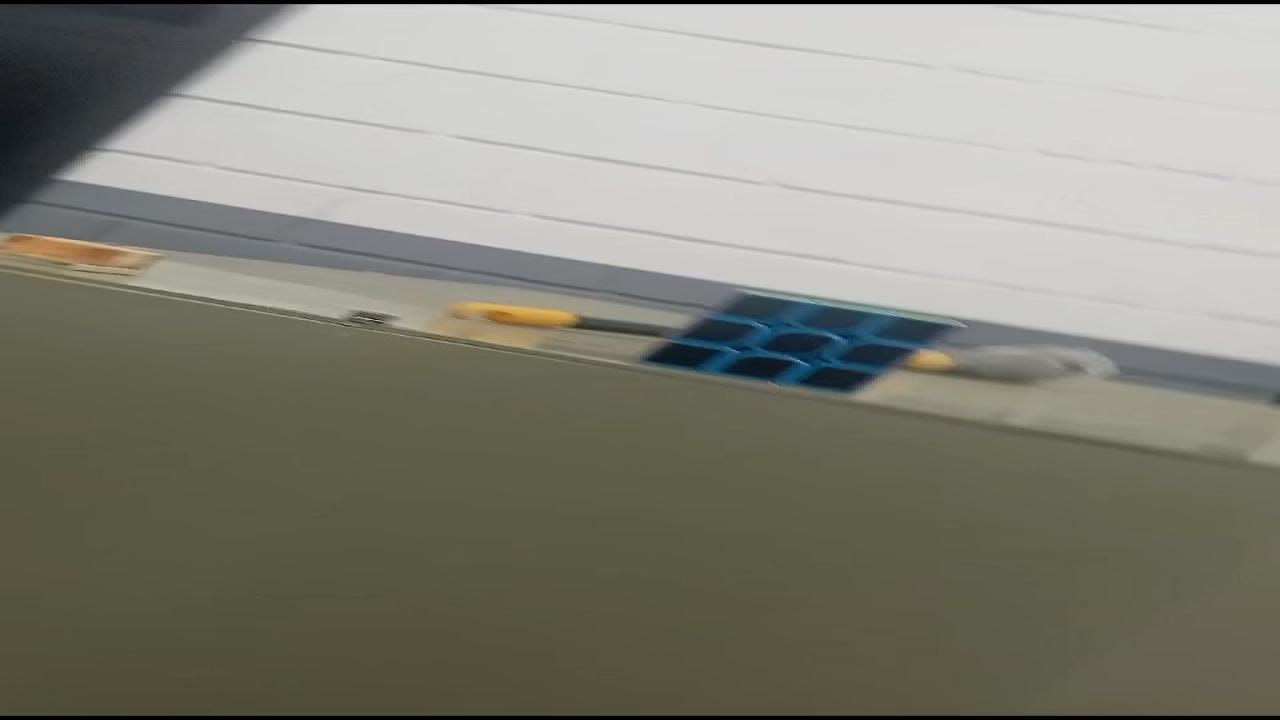Cube: (632, 288, 968, 394)
